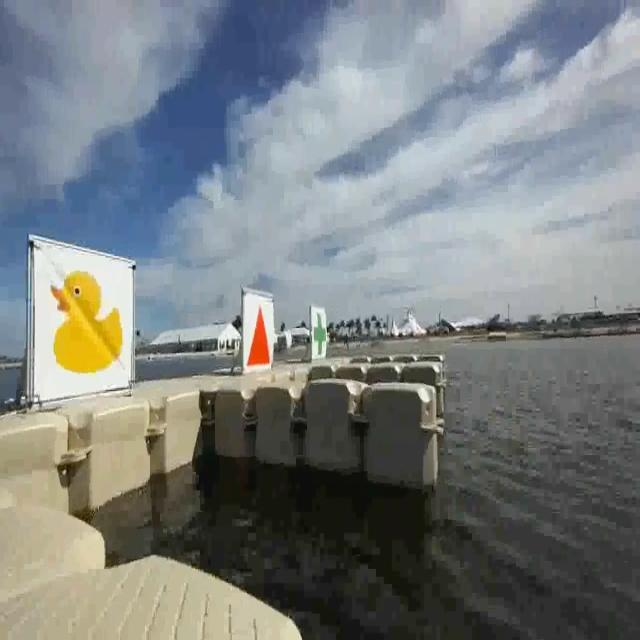blue-cross: (314, 311, 328, 364)
red-dot: (245, 299, 272, 371)
yellow-duck: (52, 267, 126, 375)
